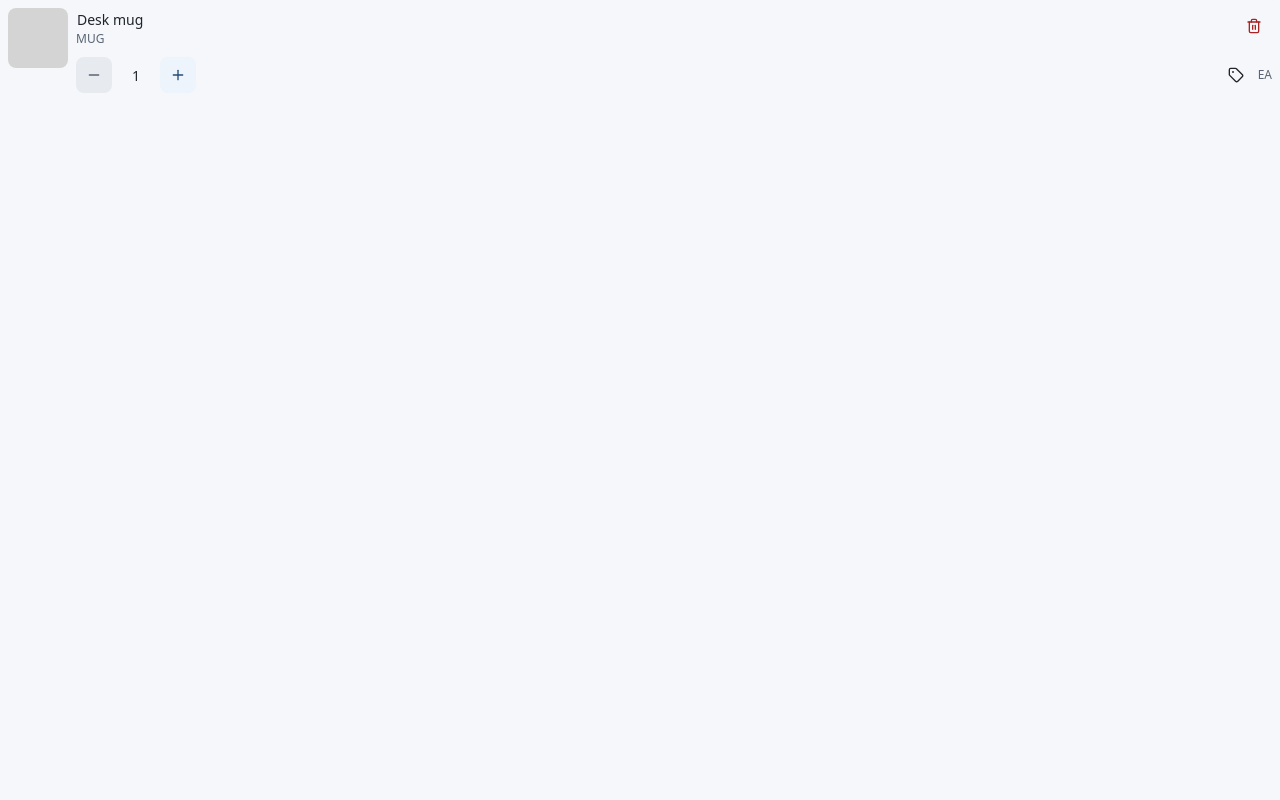
Test case: keeps quantity and percent discounts exact and moves stock location into details
Expected: the field labelled "Stock location ID" is not shown
Click the button named "Increase Quantity 1" at (178,75), box 160,57 -> 196,93
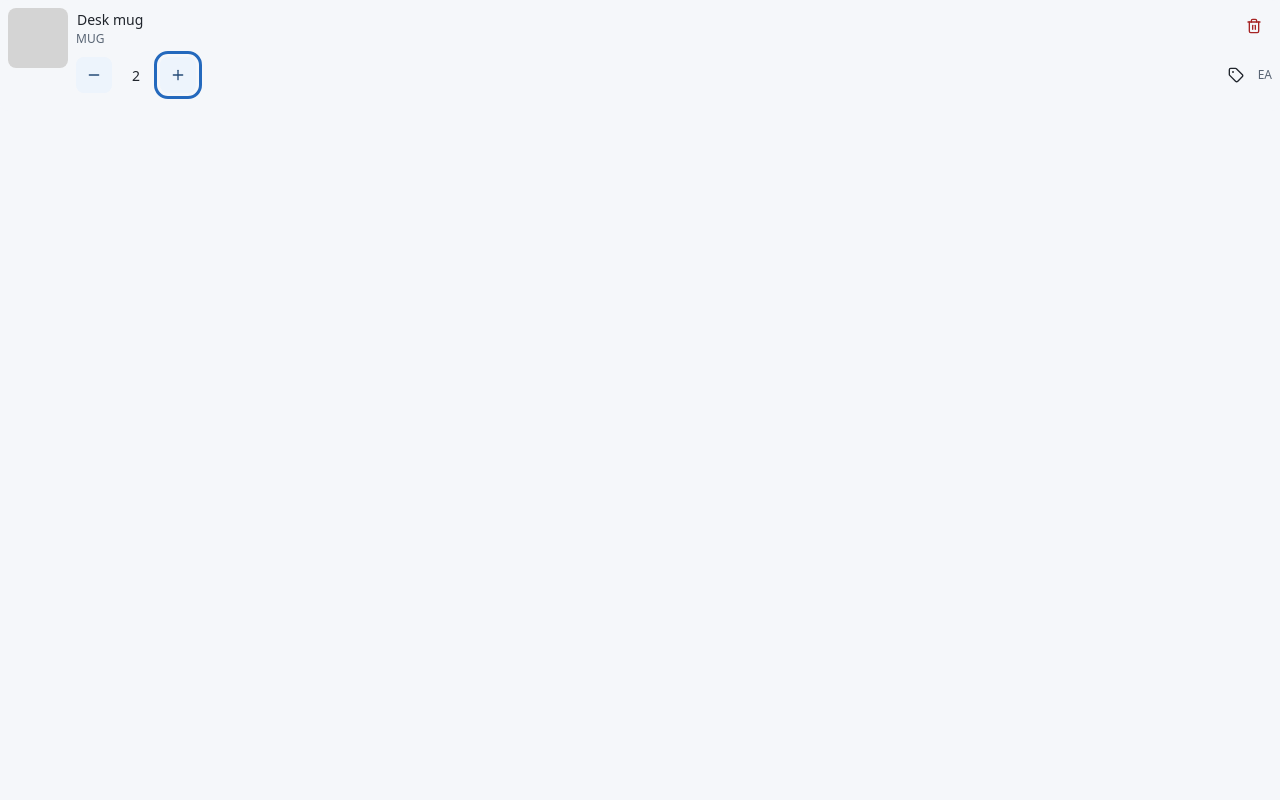
Click the button named "Discount for line 1" at (1236,75), box 1218,57 -> 1254,93
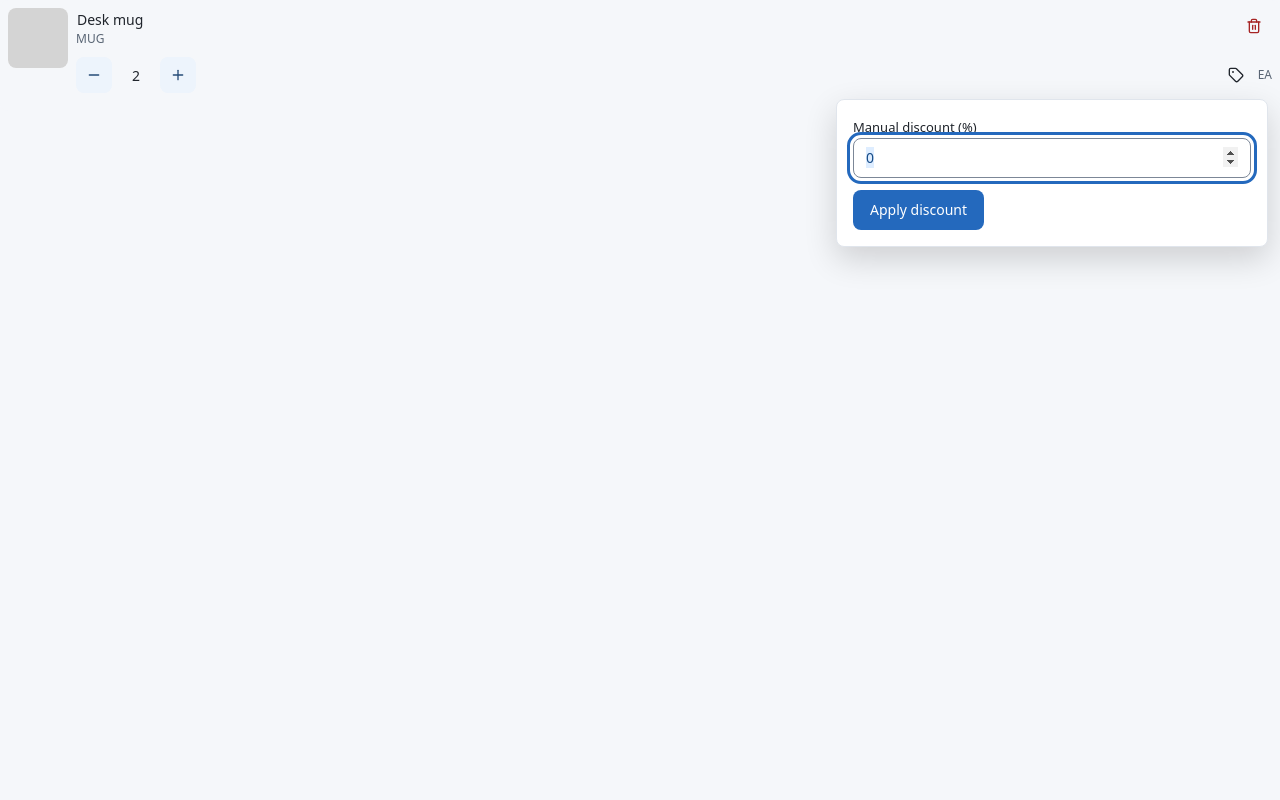
Replace the text in the number field labelled "Manual discount (%)" with "12.25" at (1052,158), box 853,138 -> 1251,178
Click the button "Apply discount" at (918,210), box 853,190 -> 984,230
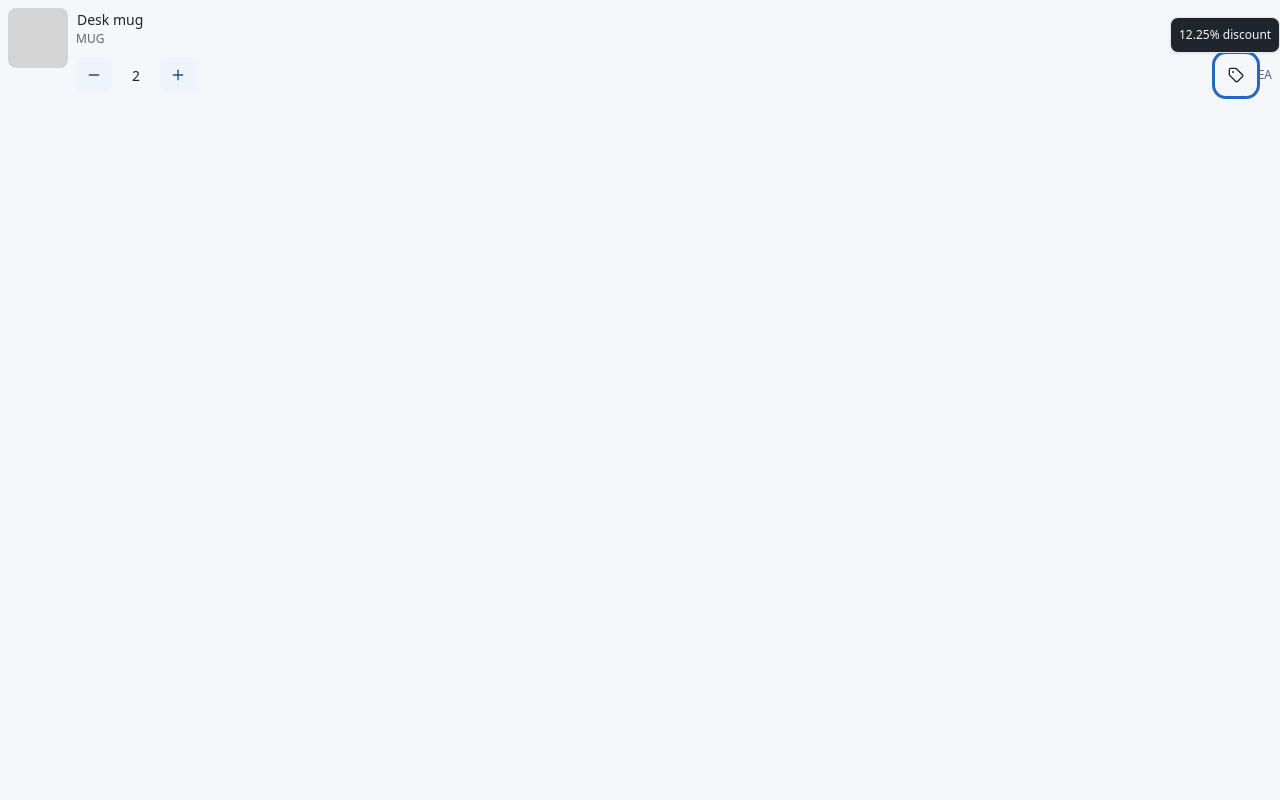
Click the button with aria-label "View details for Desk mug" at (110,20), box 76,8 -> 144,31
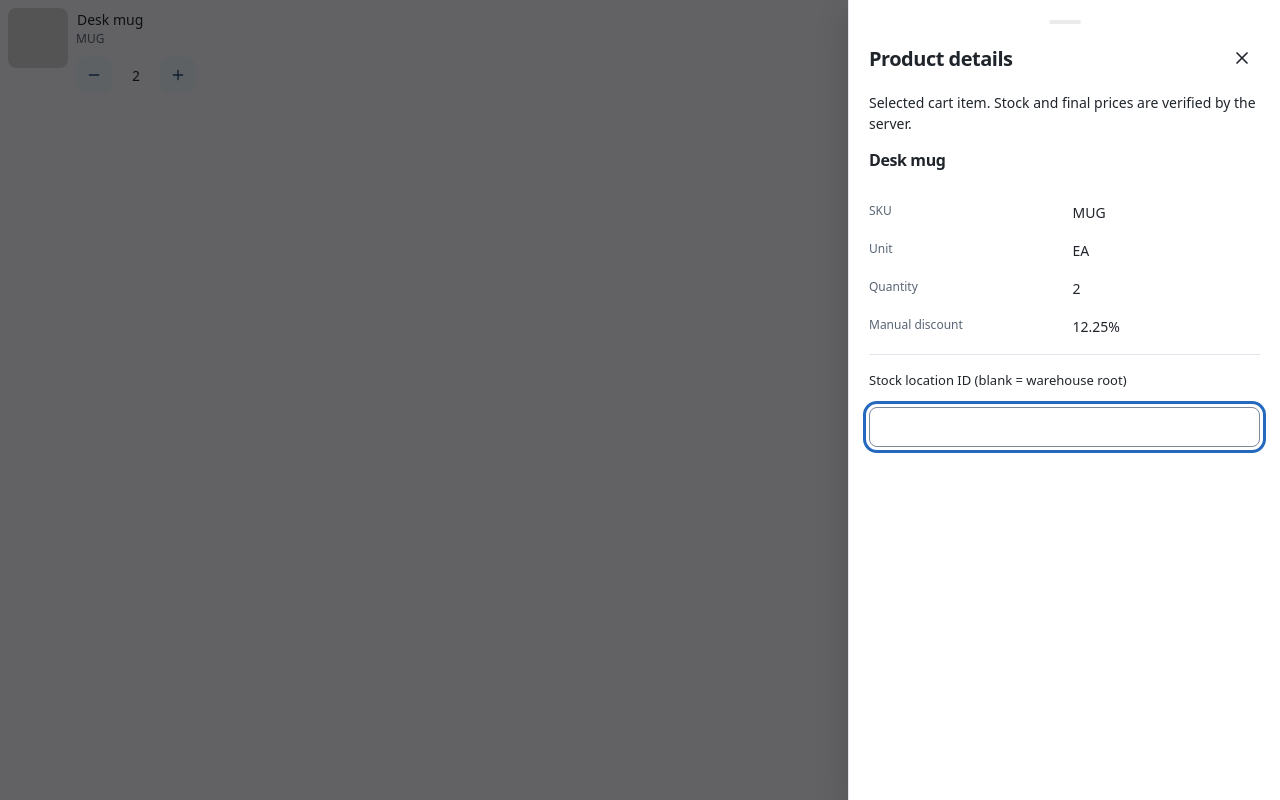
Now the dialog "Product details" shows "MUG", box 1072,203 -> 1106,222
Type "00000000-0000-4000-8000-000000000001" into the field labelled "Stock location ID (blank = warehouse root)" at (1064,426), box 869,406 -> 1260,446
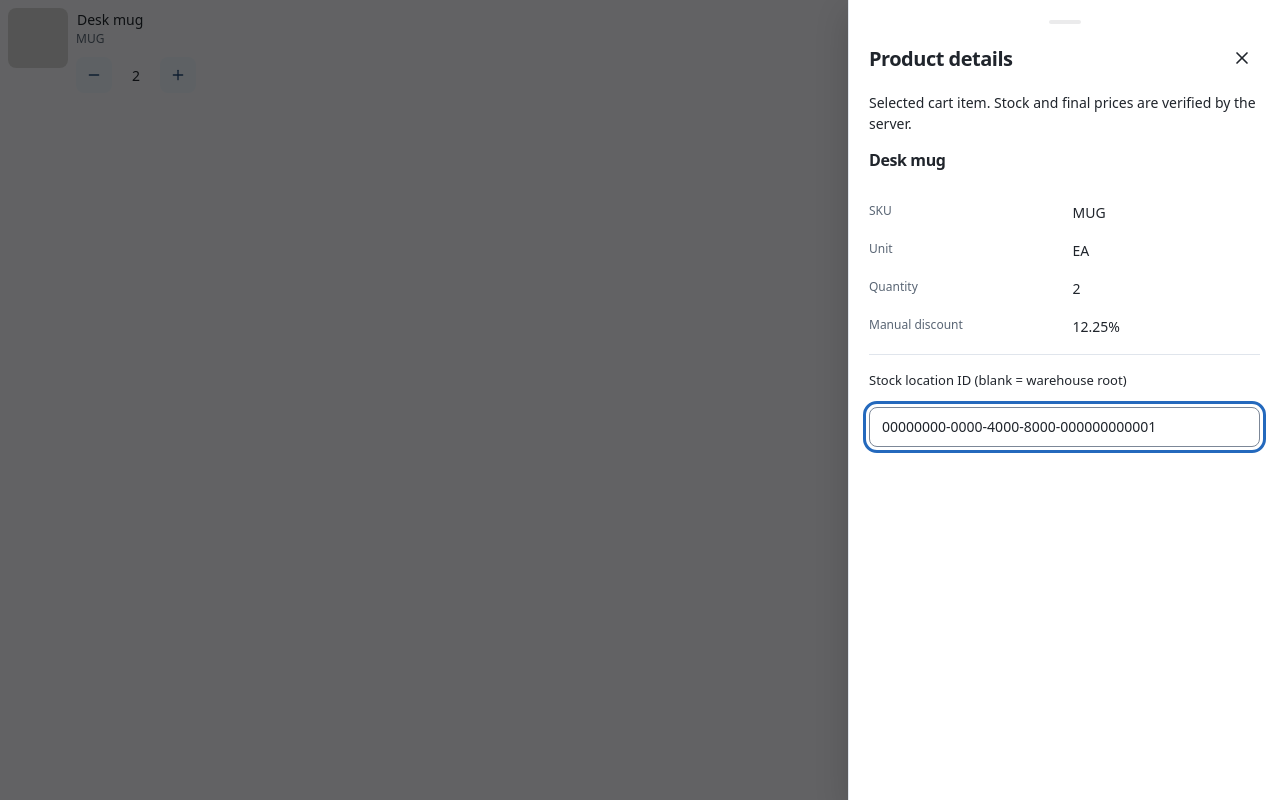
Press Escape
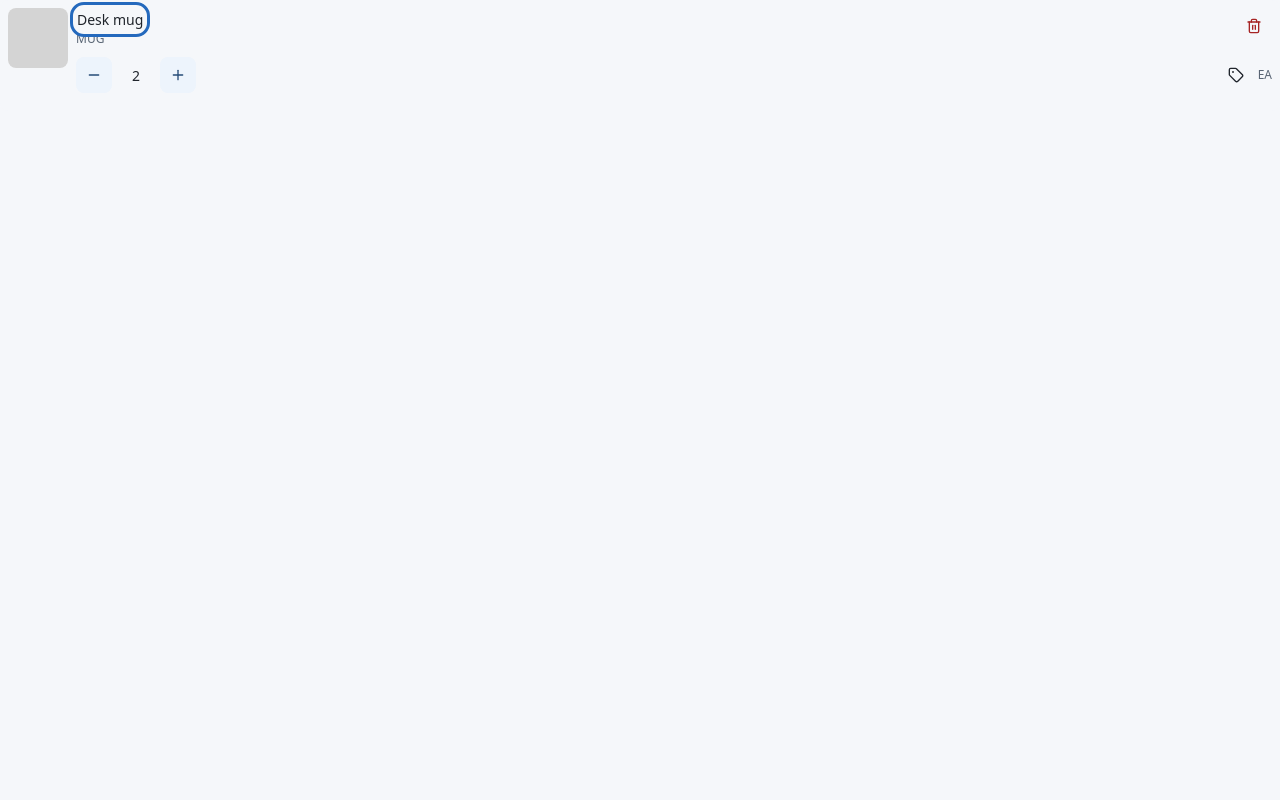
Now the dialog is gone
